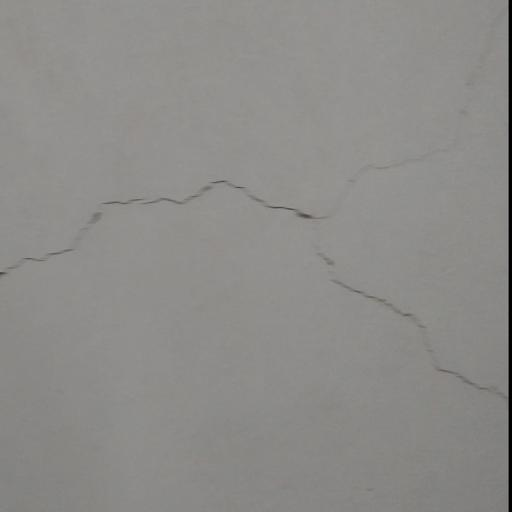minor_crack: (0, 154, 505, 402)
